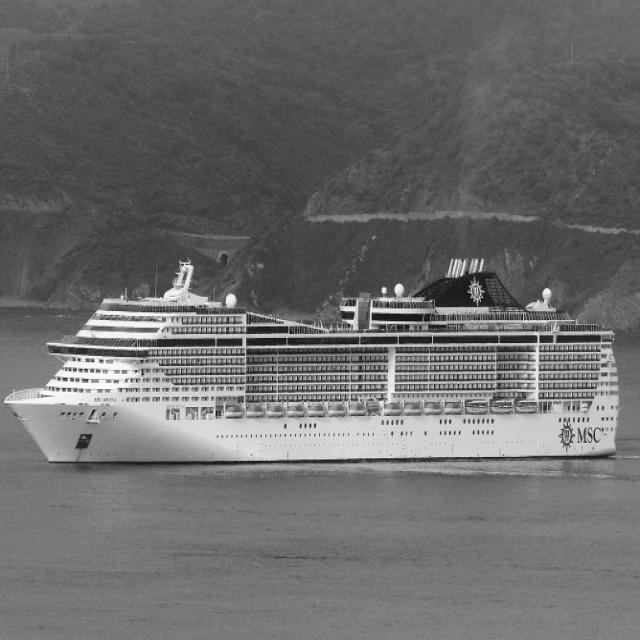cruises: (1, 253, 626, 470)
